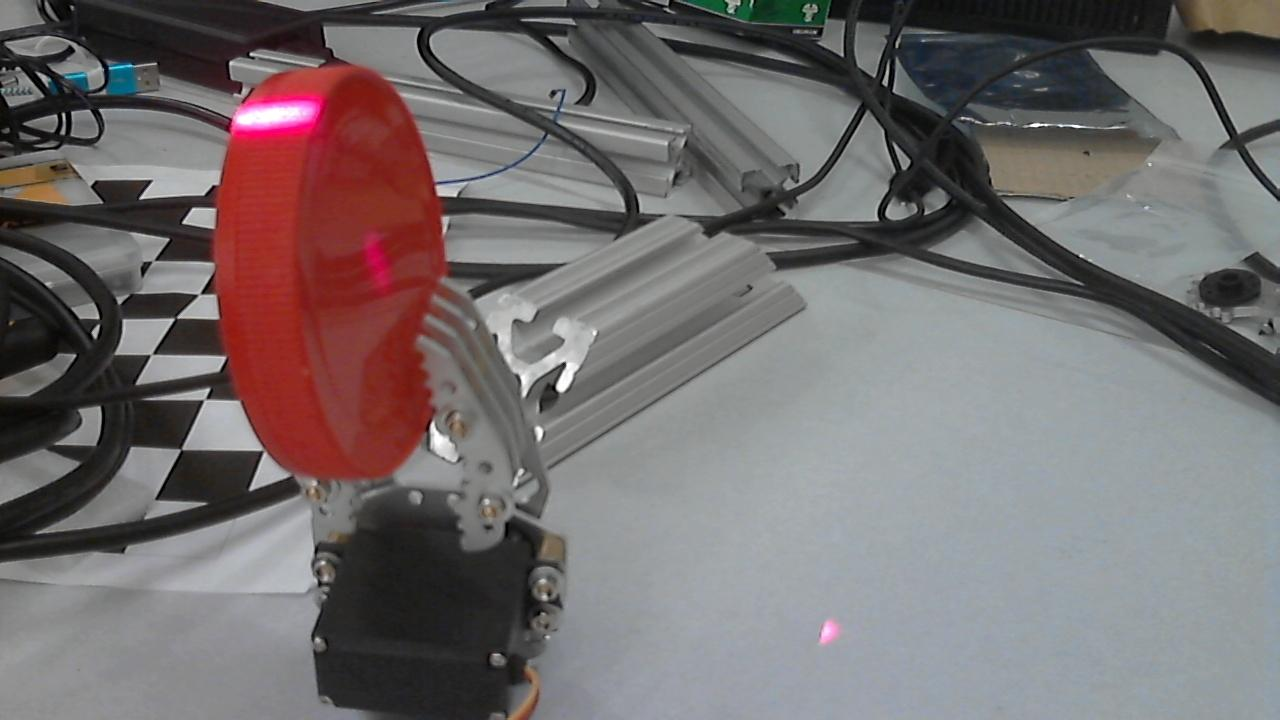Object plastic container lid - Material plastic - Color red - Pdfname ZC63DBkv6o: (221, 84, 322, 165), (335, 216, 411, 306)
